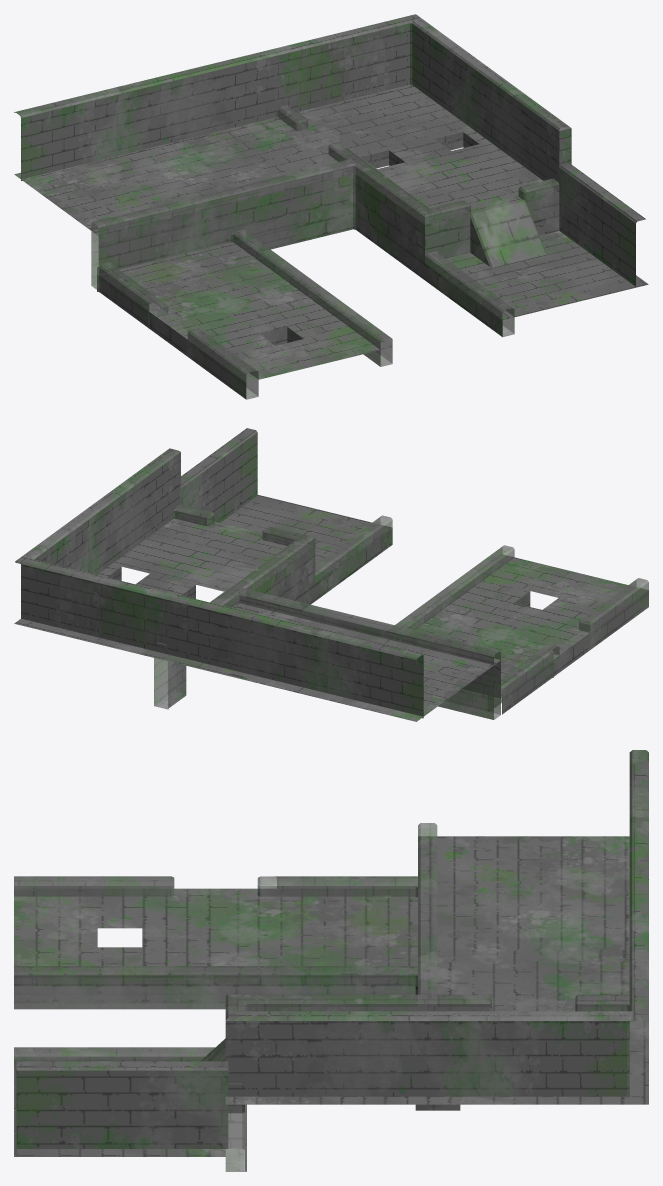
File: lvl_1-cnk_4.obj
3 views of the same model, one above another, from view 1: azimuth 30°, elevation 25°; view 2: azimuth 150°, elevation 25°; view 3: azimuth 270°, elevation 25° (orthographic). The views are drawn at different scales.
Visible parts, largest first — view 1: Cube.073, Cube.074, Cube.077, Cube.080, Cube.075, Cube.082, Cube.076, Cube.083, Cube.081, Cube.079; view 2: Cube.073, Cube.074, Cube.080, Cube.077, Cube.075, Cube.076, Cube.082, Cube.083, Cube.081, Cube.078, Cube.079; view 3: Cube.073, Cube.080, Cube.075, Cube.082, Cube.077, Cube.074, Cube.083, Cube.076, Cube.081, Cube.079, Cube.078.
Part boxes in pixels (bbox=[...]): Cube.073: bbox=[14, 84, 648, 398]; Cube.074: bbox=[14, 14, 420, 180]; Cube.077: bbox=[91, 142, 470, 289]; Cube.080: bbox=[410, 18, 571, 191]; Cube.075: bbox=[558, 163, 645, 286]; Cube.082: bbox=[231, 229, 392, 366]; Cube.076: bbox=[187, 328, 258, 399]; Cube.083: bbox=[97, 262, 168, 329]; Cube.081: bbox=[425, 251, 514, 336]; Cube.079: bbox=[518, 178, 559, 229]; Cube.073: bbox=[14, 495, 648, 721]; Cube.074: bbox=[15, 556, 423, 718]; Cube.080: bbox=[22, 448, 180, 574]; Cube.077: bbox=[211, 526, 500, 719]; Cube.075: bbox=[180, 428, 257, 522]; Cube.076: bbox=[579, 578, 648, 649]; Cube.082: bbox=[395, 545, 514, 629]; Cube.083: bbox=[494, 644, 559, 713]; Cube.081: bbox=[315, 515, 392, 583]; Cube.078: bbox=[154, 642, 186, 709]; Cube.079: bbox=[173, 504, 214, 526]; Cube.073: bbox=[14, 836, 648, 1156]; Cube.080: bbox=[225, 1011, 632, 1096]; Cube.075: bbox=[16, 1061, 228, 1148]; Cube.082: bbox=[14, 966, 417, 1009]; Cube.077: bbox=[225, 823, 491, 1112]; Cube.074: bbox=[629, 750, 648, 1020]; Cube.083: bbox=[257, 876, 417, 897]; Cube.076: bbox=[14, 876, 174, 896]; Cube.081: bbox=[14, 1047, 214, 1067]; Cube.079: bbox=[225, 1083, 246, 1171]; Cube.078: bbox=[575, 995, 629, 1011].
Size of the model in its own units: 99.33 by 27.82 by 99.
3 materials, 3 textured.
